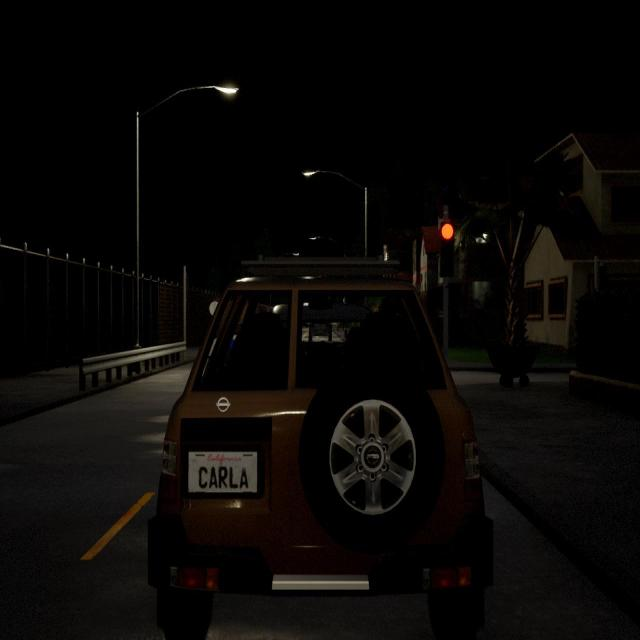Traffic_Signs: (207, 300, 220, 317)
Vehicle: (148, 257, 498, 635), (307, 323, 334, 343)
traffic_light: (439, 220, 456, 278)
